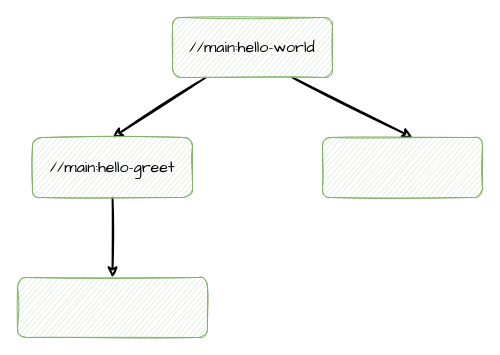
This 500x355 diagram has some shape labels left out. The shapes that lost their labels are listed below. From the top down, each one's box as (x1, y1, x2, y2) in pixels, then its label:
(322, 136, 482, 198): //main:hello-world.cc
(16, 276, 208, 338): //main:hello-greet.h //main:hello-greet.cc
